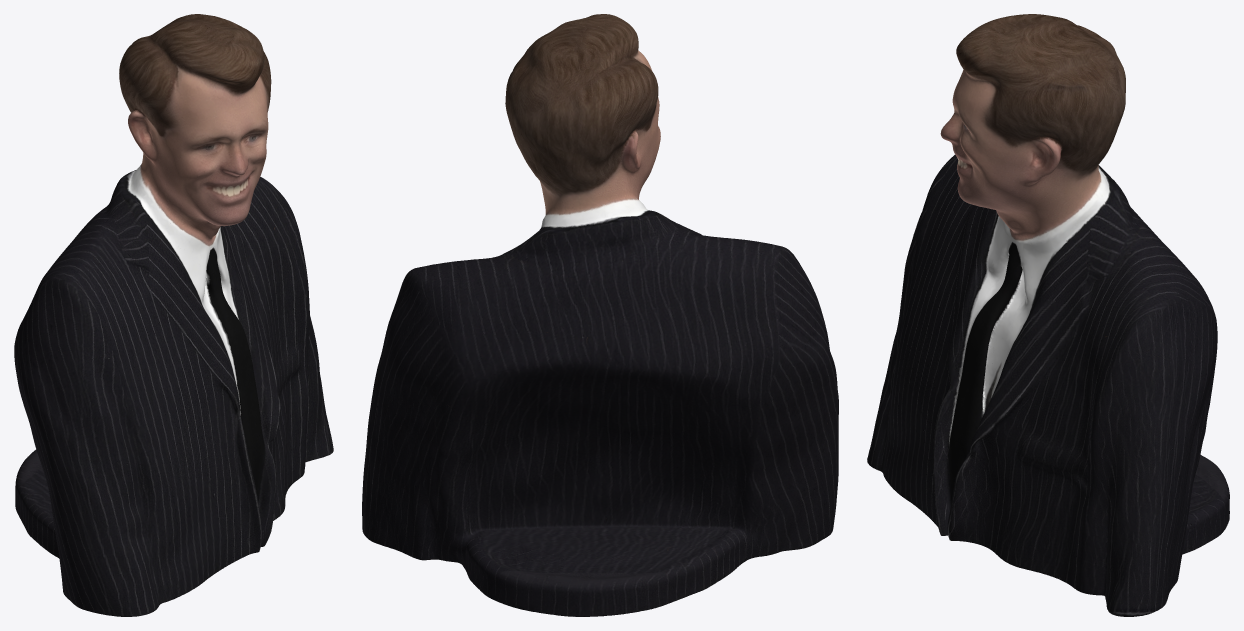
The model's file is rfk.glb.
The picture shows the model from 3 angles, left to right: view 1: azimuth 30°, elevation 25°; view 2: azimuth 150°, elevation 25°; view 3: azimuth 270°, elevation 25°; orthographic projection. The views are drawn at different scales.
Size of the model in its own units: 1.51 by 1.9 by 1.23.
Materials: 1 (1 with a texture image).
